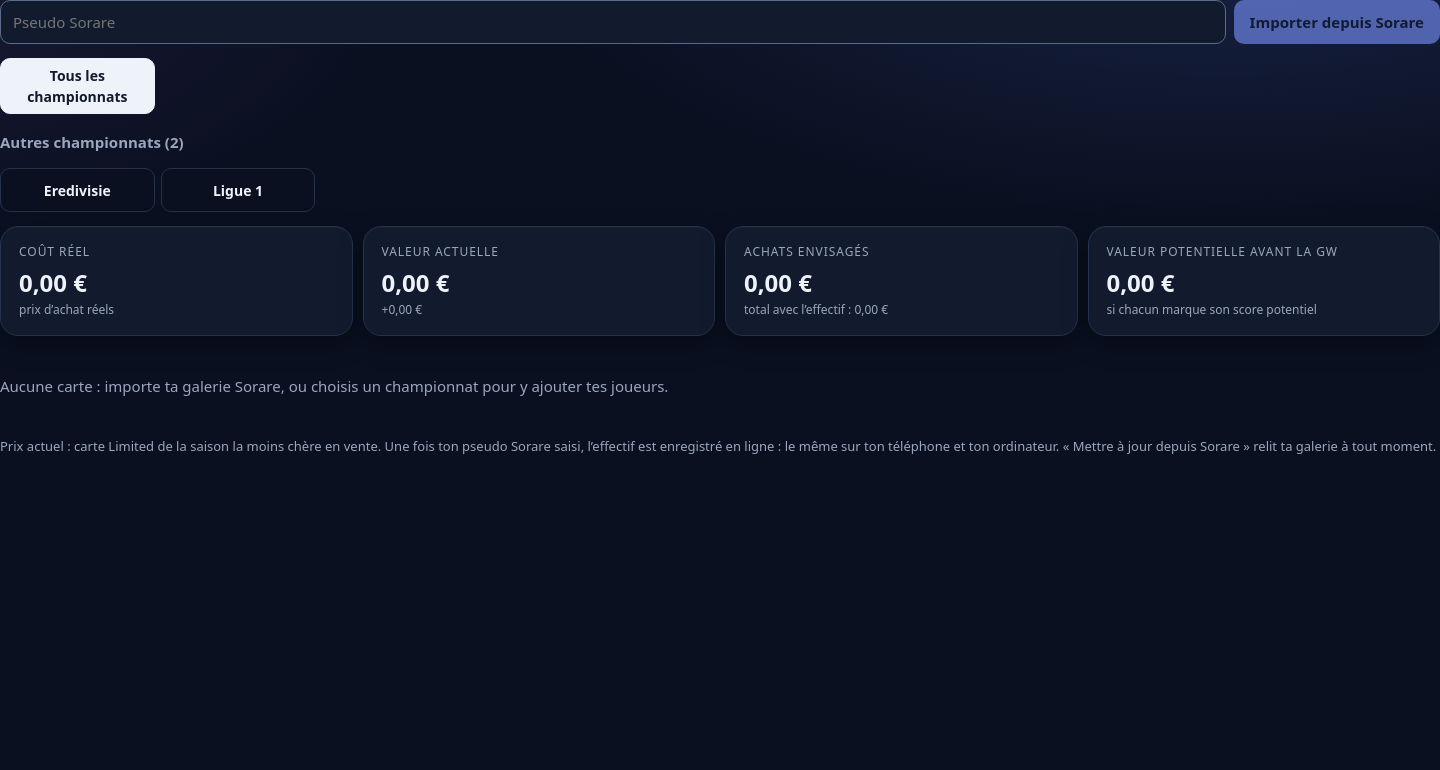
it: Mon effectif › joueur absent de la liste ajouté par son nom, affiché sans lien
This screenshot has width=1440, height=770.
Click the button "Eredivisie" at (77, 190), box left=0, top=168, right=155, bottom=212
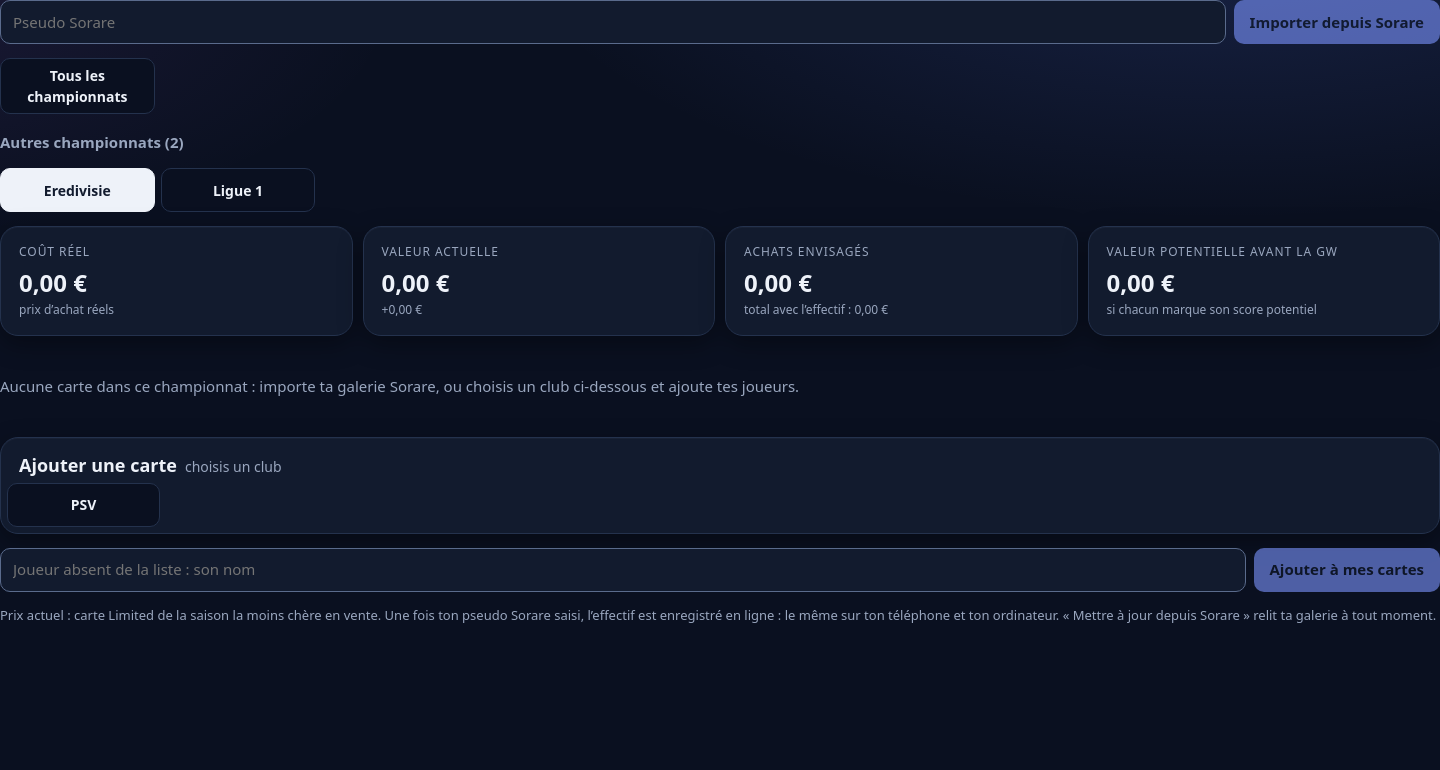
Type "Stije Resink" into the field named "Nom d’un joueur absent de la liste" at (623, 570), box left=0, top=548, right=1246, bottom=592
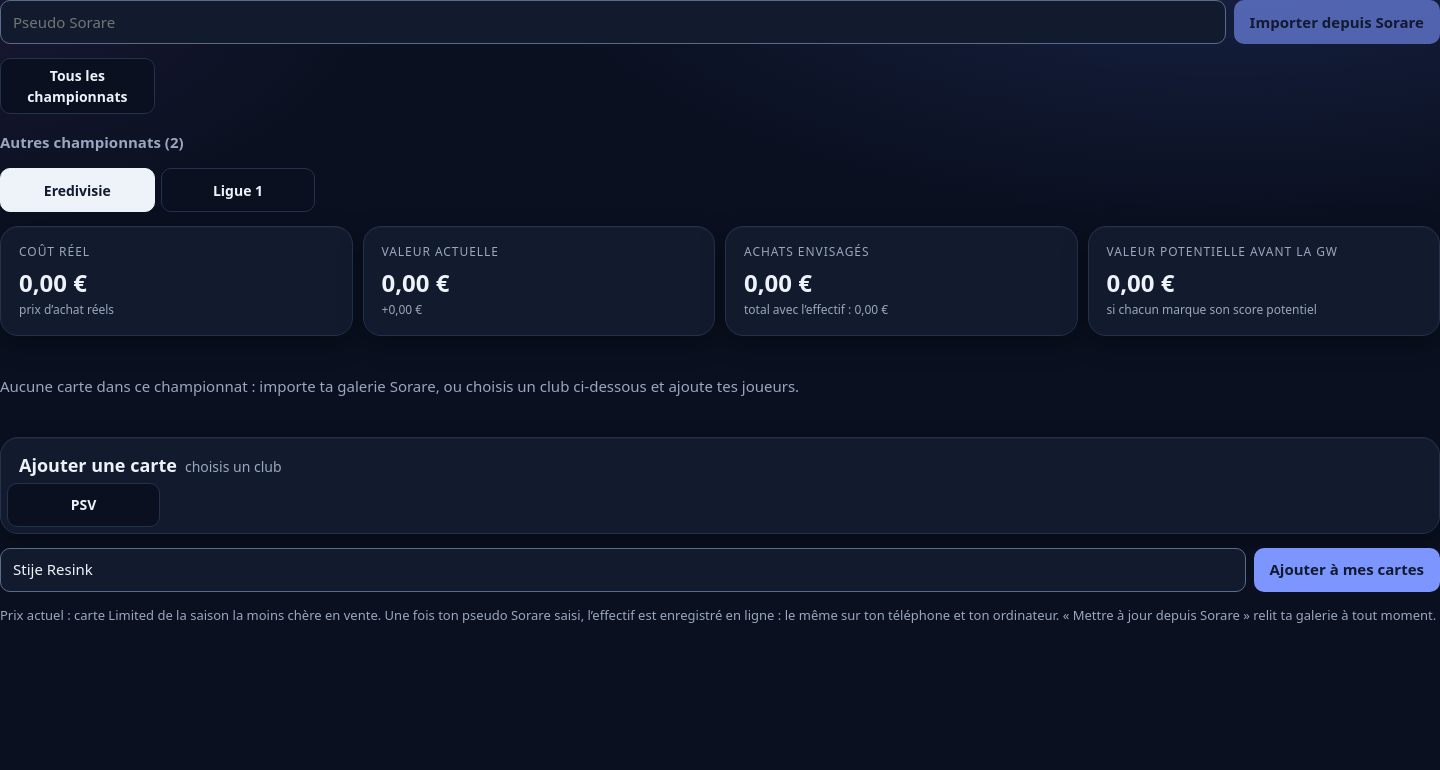
Click the button "Ajouter à mes cartes" at (1347, 570), box left=1254, top=548, right=1439, bottom=592
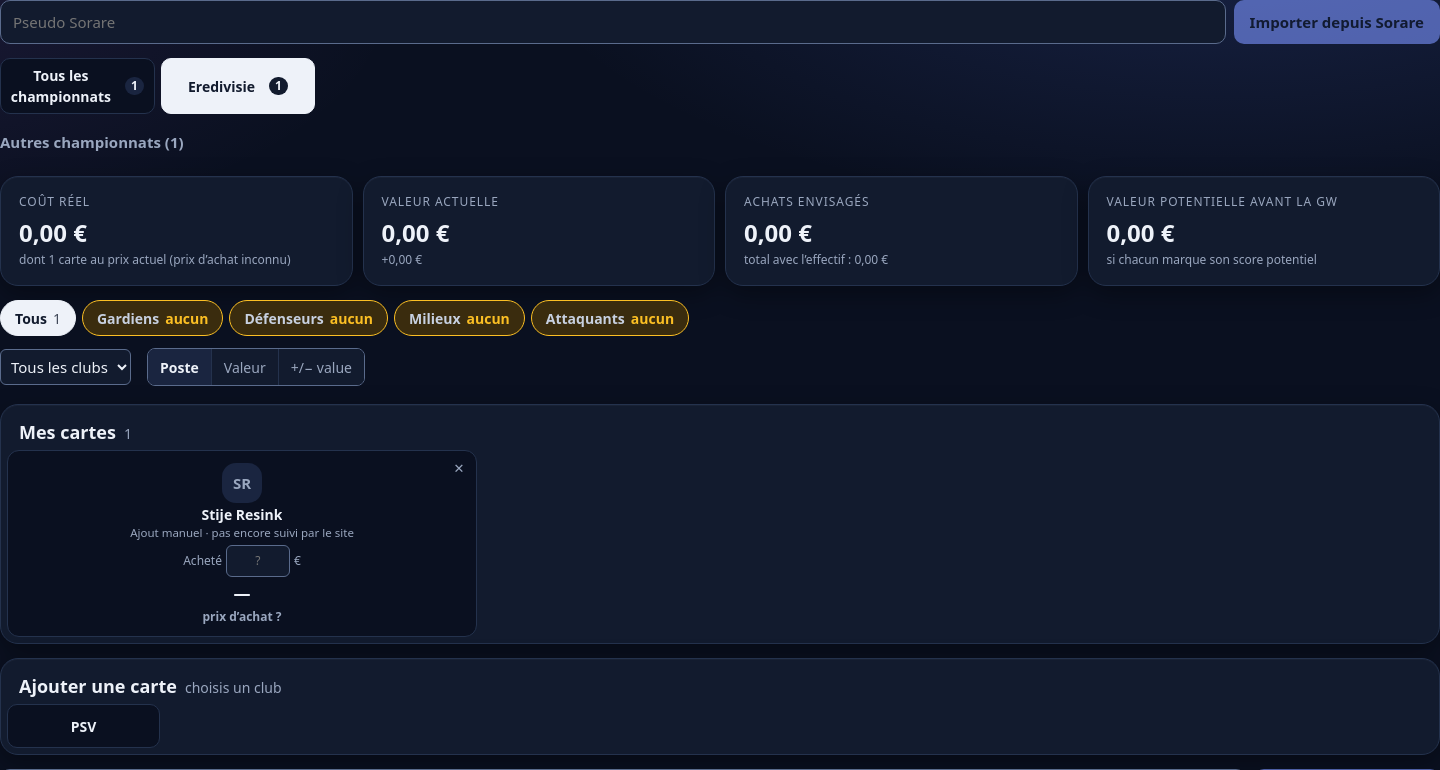
Now the text "Stije Resink" is shown, box left=202, top=507, right=282, bottom=524
